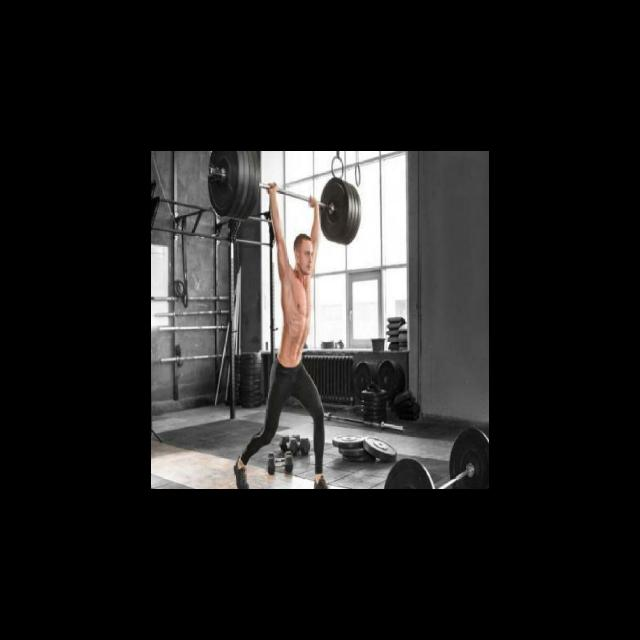barbell: (206, 151, 242, 222)
